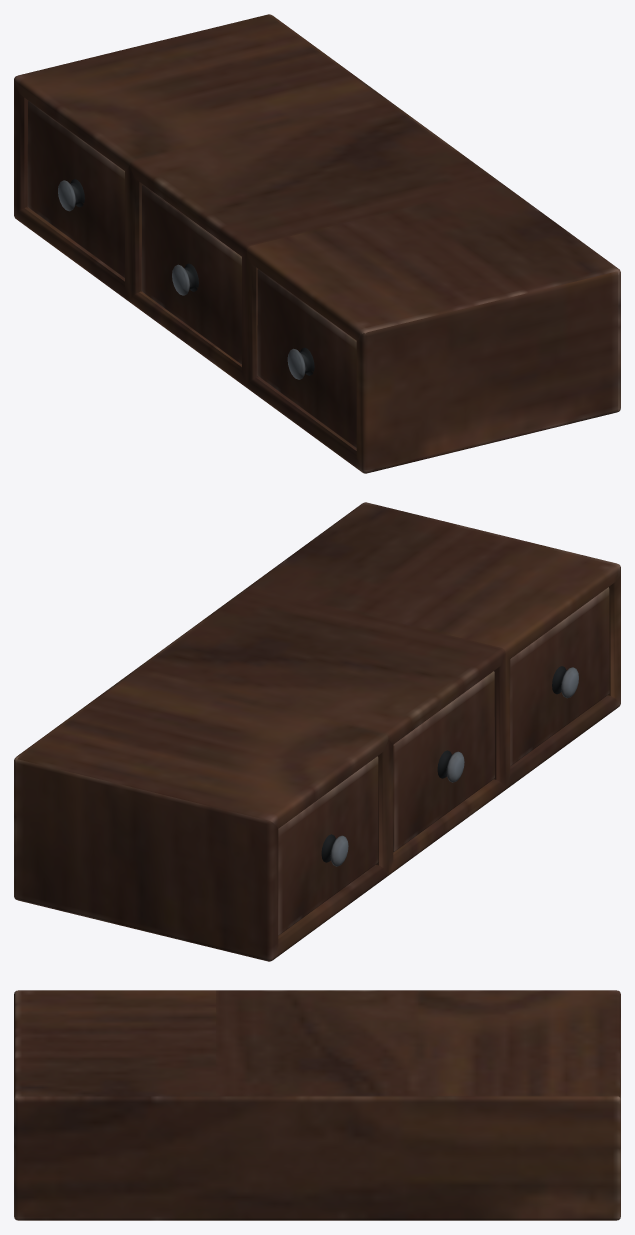
The model's file is SM_TillFrame_triple.fbx.
3 views of the same model, one above another, from view 1: azimuth 30°, elevation 25°; view 2: azimuth 150°, elevation 25°; view 3: azimuth 270°, elevation 25° (orthographic). The views are drawn at different scales.
Visible parts, largest first — view 1: SM_TillFrame_triple_LOD0; view 2: SM_TillFrame_triple_LOD0; view 3: SM_TillFrame_triple_LOD0.
Boxes of the visible parts, box(x1,y1,x2,y2) form: SM_TillFrame_triple_LOD0: box(14, 14, 620, 473); SM_TillFrame_triple_LOD0: box(14, 502, 620, 961); SM_TillFrame_triple_LOD0: box(14, 990, 620, 1220).
Size of the model in its own units: 31.24 by 70.19 by 15.79.
1 material, 1 textured.
